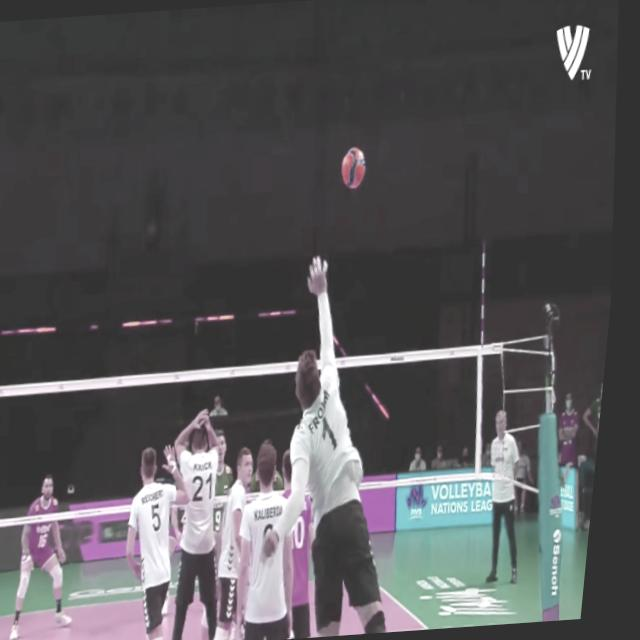player: (263, 251, 427, 639), (166, 406, 250, 640), (123, 444, 210, 640), (236, 441, 314, 640), (14, 472, 96, 640), (216, 443, 281, 640)
